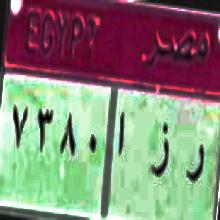0: (83, 128, 101, 168)
3: (36, 103, 54, 157)
7: (12, 100, 30, 160)
8: (60, 108, 76, 163)
alif: (117, 107, 127, 158)
raa: (185, 133, 205, 198)
zay: (150, 123, 170, 188)
